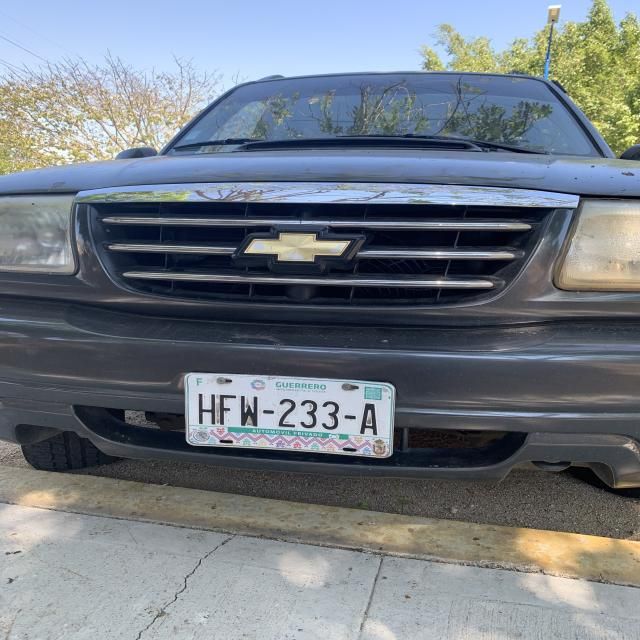placa: (188, 387, 388, 439)
